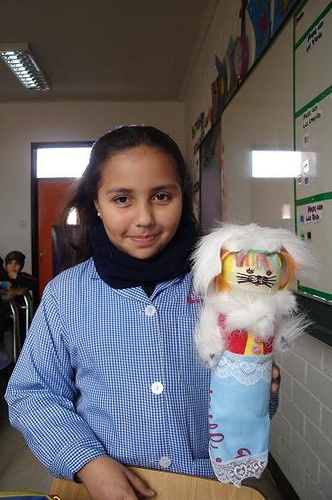head: (89, 125, 190, 261), (2, 248, 26, 283)
person: (5, 120, 311, 500), (1, 250, 37, 305)
